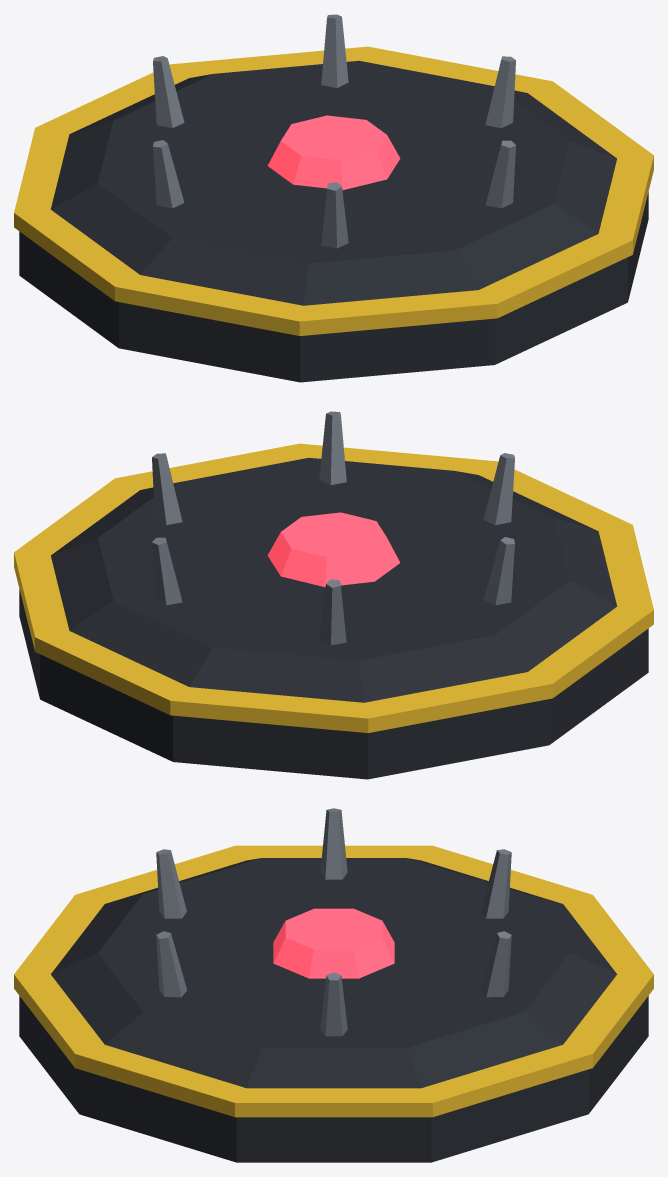
Rendered from paint_mine.glb.
The picture shows the model from 3 angles, top to bottom: view 1: azimuth 30°, elevation 25°; view 2: azimuth 150°, elevation 25°; view 3: azimuth 270°, elevation 25°; orthographic projection. The views are drawn at different scales.
Parts seen in each view (by area): view 1: paint_mine; view 2: paint_mine; view 3: paint_mine.
Boxes of the visible parts, left/top/right/bottom form: paint_mine: left=14, top=14, right=653, bottom=382; paint_mine: left=14, top=411, right=653, bottom=779; paint_mine: left=14, top=808, right=653, bottom=1162.
Size of the model in its own units: 0.2321 by 0.0605 by 0.244.
